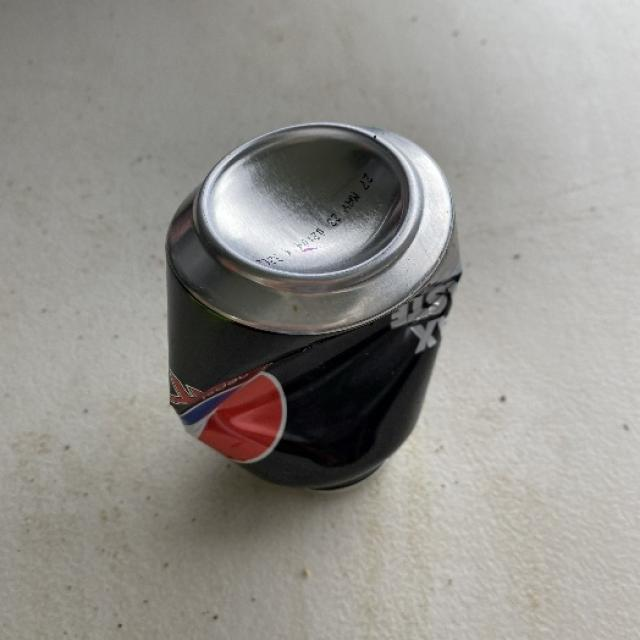metal: (164, 120, 463, 491)
